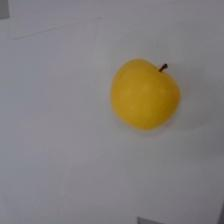yellow: (107, 53, 185, 134)
